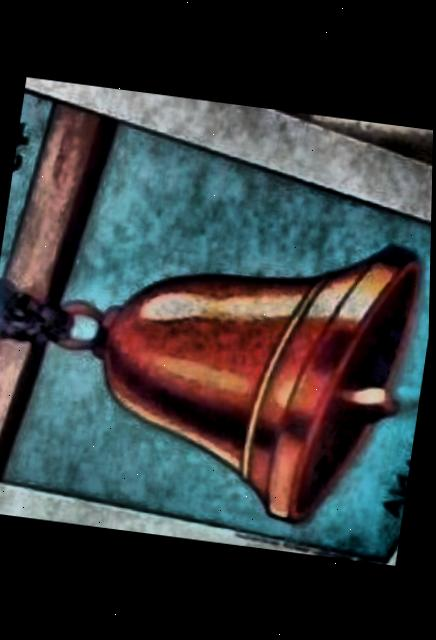La Campana: (0, 94, 432, 562)
